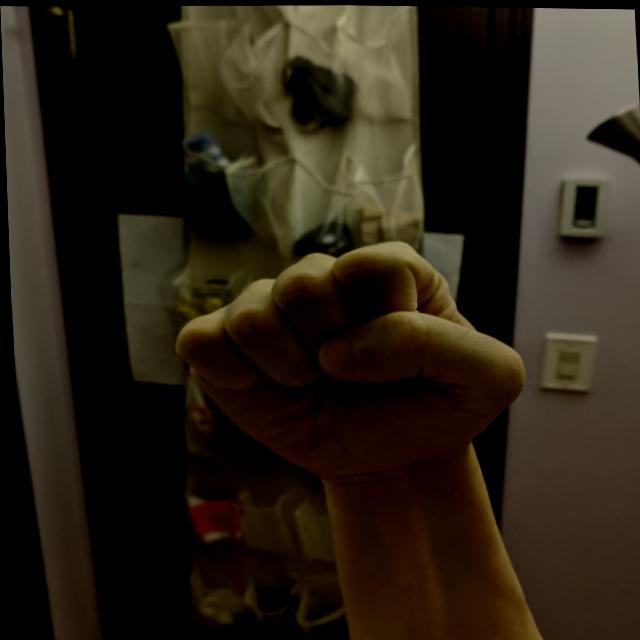S: (157, 226, 536, 495)
